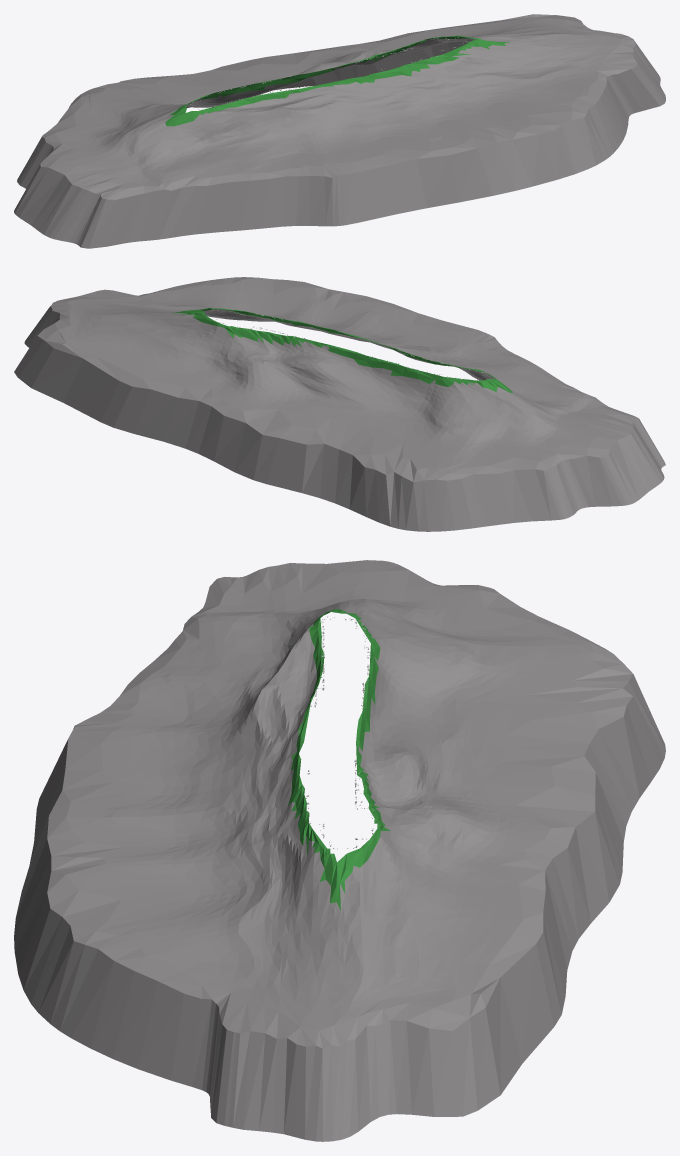
File: 4.landscape.details.fbx
3 renders of one model, top to bottom at view 1: azimuth 30°, elevation 25°; view 2: azimuth 150°, elevation 25°; view 3: azimuth 270°, elevation 25°, orthographic. The views are drawn at different scales.
Visible parts, largest first — view 1: stone, cliffs, outer_grass; view 2: stone, cliffs, outer_grass; view 3: stone, cliffs, outer_grass.
Boxes of the visible parts, x1=… form: stone: x1=55, y1=17, x2=620, y2=189; cliffs: x1=14, y1=14, x2=665, y2=248; outer_grass: x1=165, y1=35, x2=509, y2=126; stone: x1=58, y1=279, x2=618, y2=473; cliffs: x1=14, y1=277, x2=665, y2=531; outer_grass: x1=171, y1=308, x2=512, y2=392; stone: x1=53, y1=571, x2=604, y2=1030; cliffs: x1=14, y1=560, x2=665, y2=1141; outer_grass: x1=288, y1=609, x2=390, y2=910.
Bounding box in the file's own units: 4408 × 551 × 2284.
